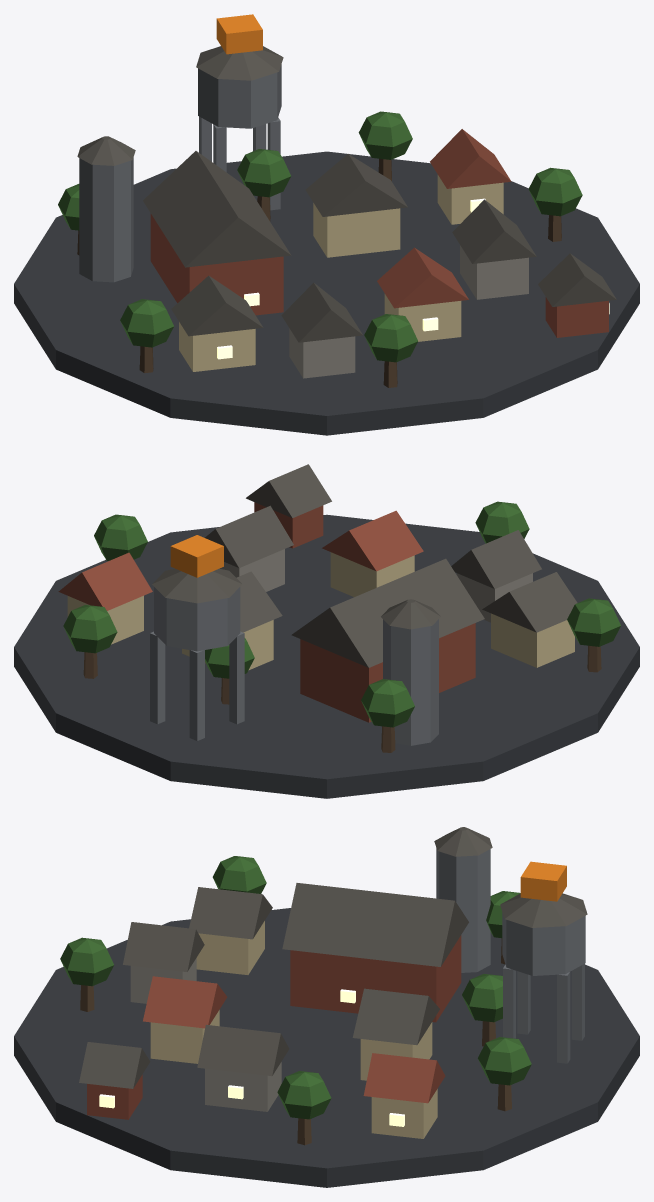
Rendered from overworld-settlement-rural.glb.
The picture shows the model from 3 angles, top to bottom: view 1: azimuth 30°, elevation 25°; view 2: azimuth 150°, elevation 25°; view 3: azimuth 270°, elevation 25°; orthographic projection.
Visible parts, largest first — view 1: settlement, pad; view 2: settlement, pad; view 3: settlement, pad.
Boxes of the visible parts, x1,y1,x2,y2 form: settlement: [58, 14, 616, 387]; pad: [14, 151, 639, 435]; settlement: [58, 464, 620, 752]; pad: [14, 514, 639, 798]; settlement: [60, 827, 587, 1145]; pad: [14, 908, 639, 1187].
Size of the model in its own units: 0.58 by 0.199 by 0.58.
